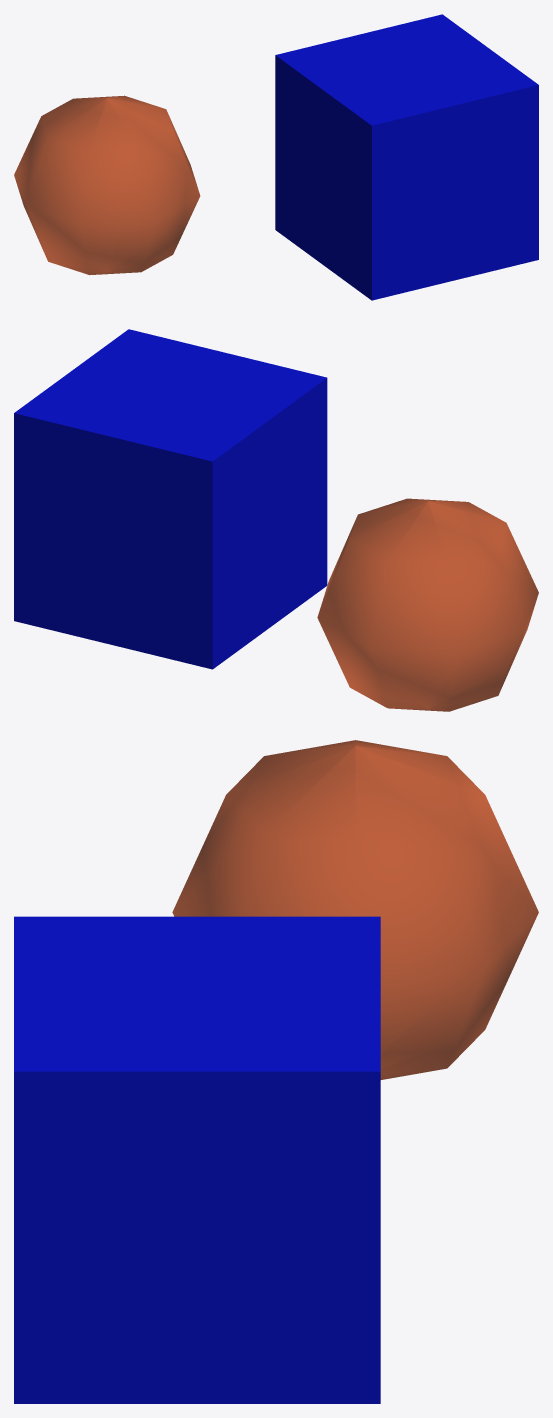
The model's file is multimaterial.obj.
The picture shows the model from 3 angles, top to bottom: view 1: azimuth 30°, elevation 25°; view 2: azimuth 150°, elevation 25°; view 3: azimuth 270°, elevation 25°; orthographic projection. The views are drawn at different scales.
Parts seen in each view (by area): view 1: Cube, SurfSphere; view 2: Cube, SurfSphere; view 3: Cube, SurfSphere.
Part boxes in pixels (bbox=[...]): Cube: bbox=[275, 14, 538, 300]; SurfSphere: bbox=[14, 95, 200, 275]; Cube: bbox=[14, 329, 327, 669]; SurfSphere: bbox=[317, 498, 538, 711]; Cube: bbox=[14, 916, 380, 1403]; SurfSphere: bbox=[172, 740, 538, 1079].
Size of the model in its own units: 5.09 by 2.05 by 2.86.
